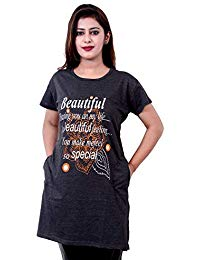tshirt: (38, 60, 152, 251)
